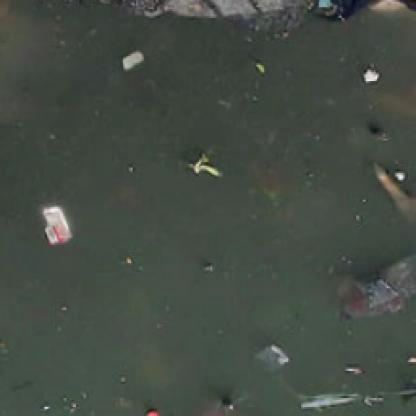Trash: (37, 198, 74, 250), (249, 340, 292, 374)
